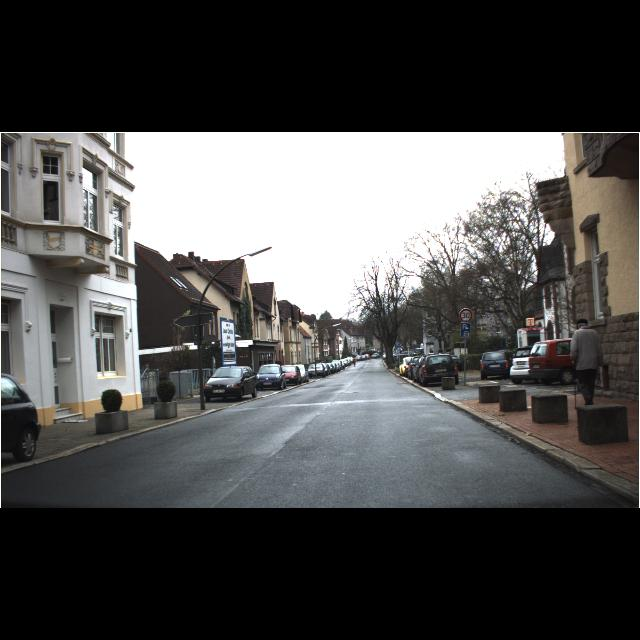prohibitory: (458, 308, 472, 322)
